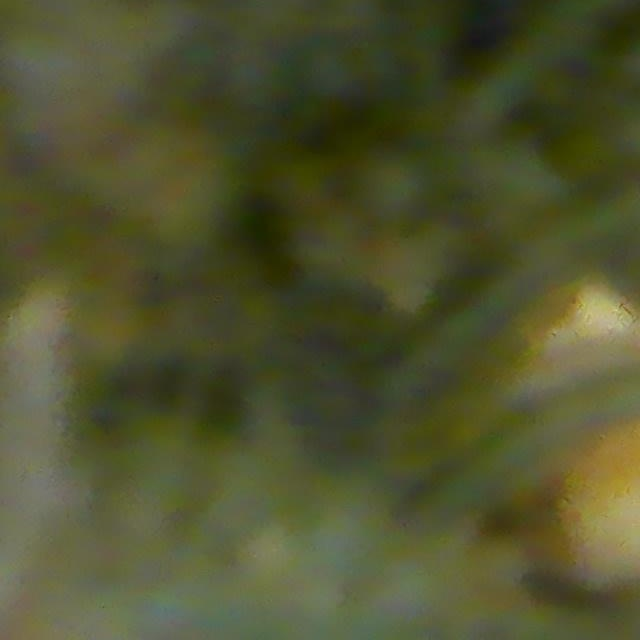SeaGrape: (356, 147, 436, 230)
